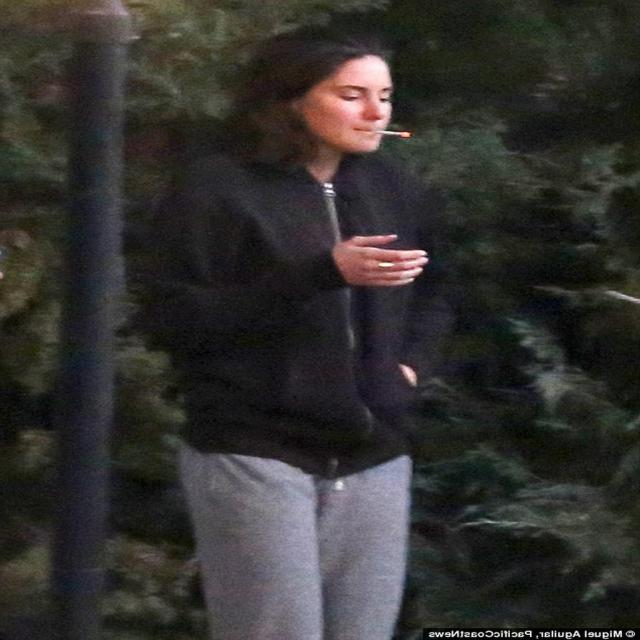smoking: (304, 48, 414, 161)
